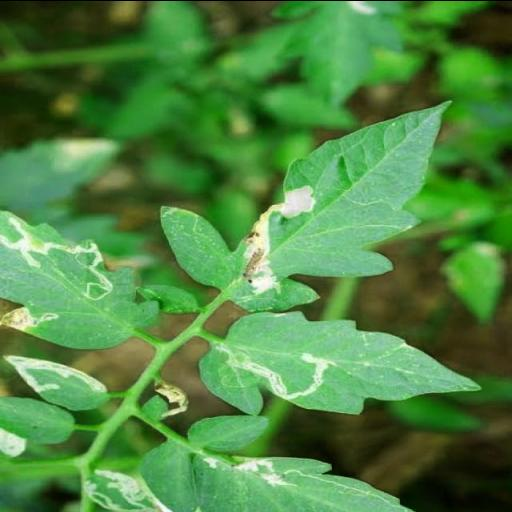Leaf Miner: (160, 96, 456, 312), (196, 310, 484, 412), (0, 210, 160, 350), (188, 440, 324, 494), (0, 352, 111, 410), (82, 468, 166, 512)
